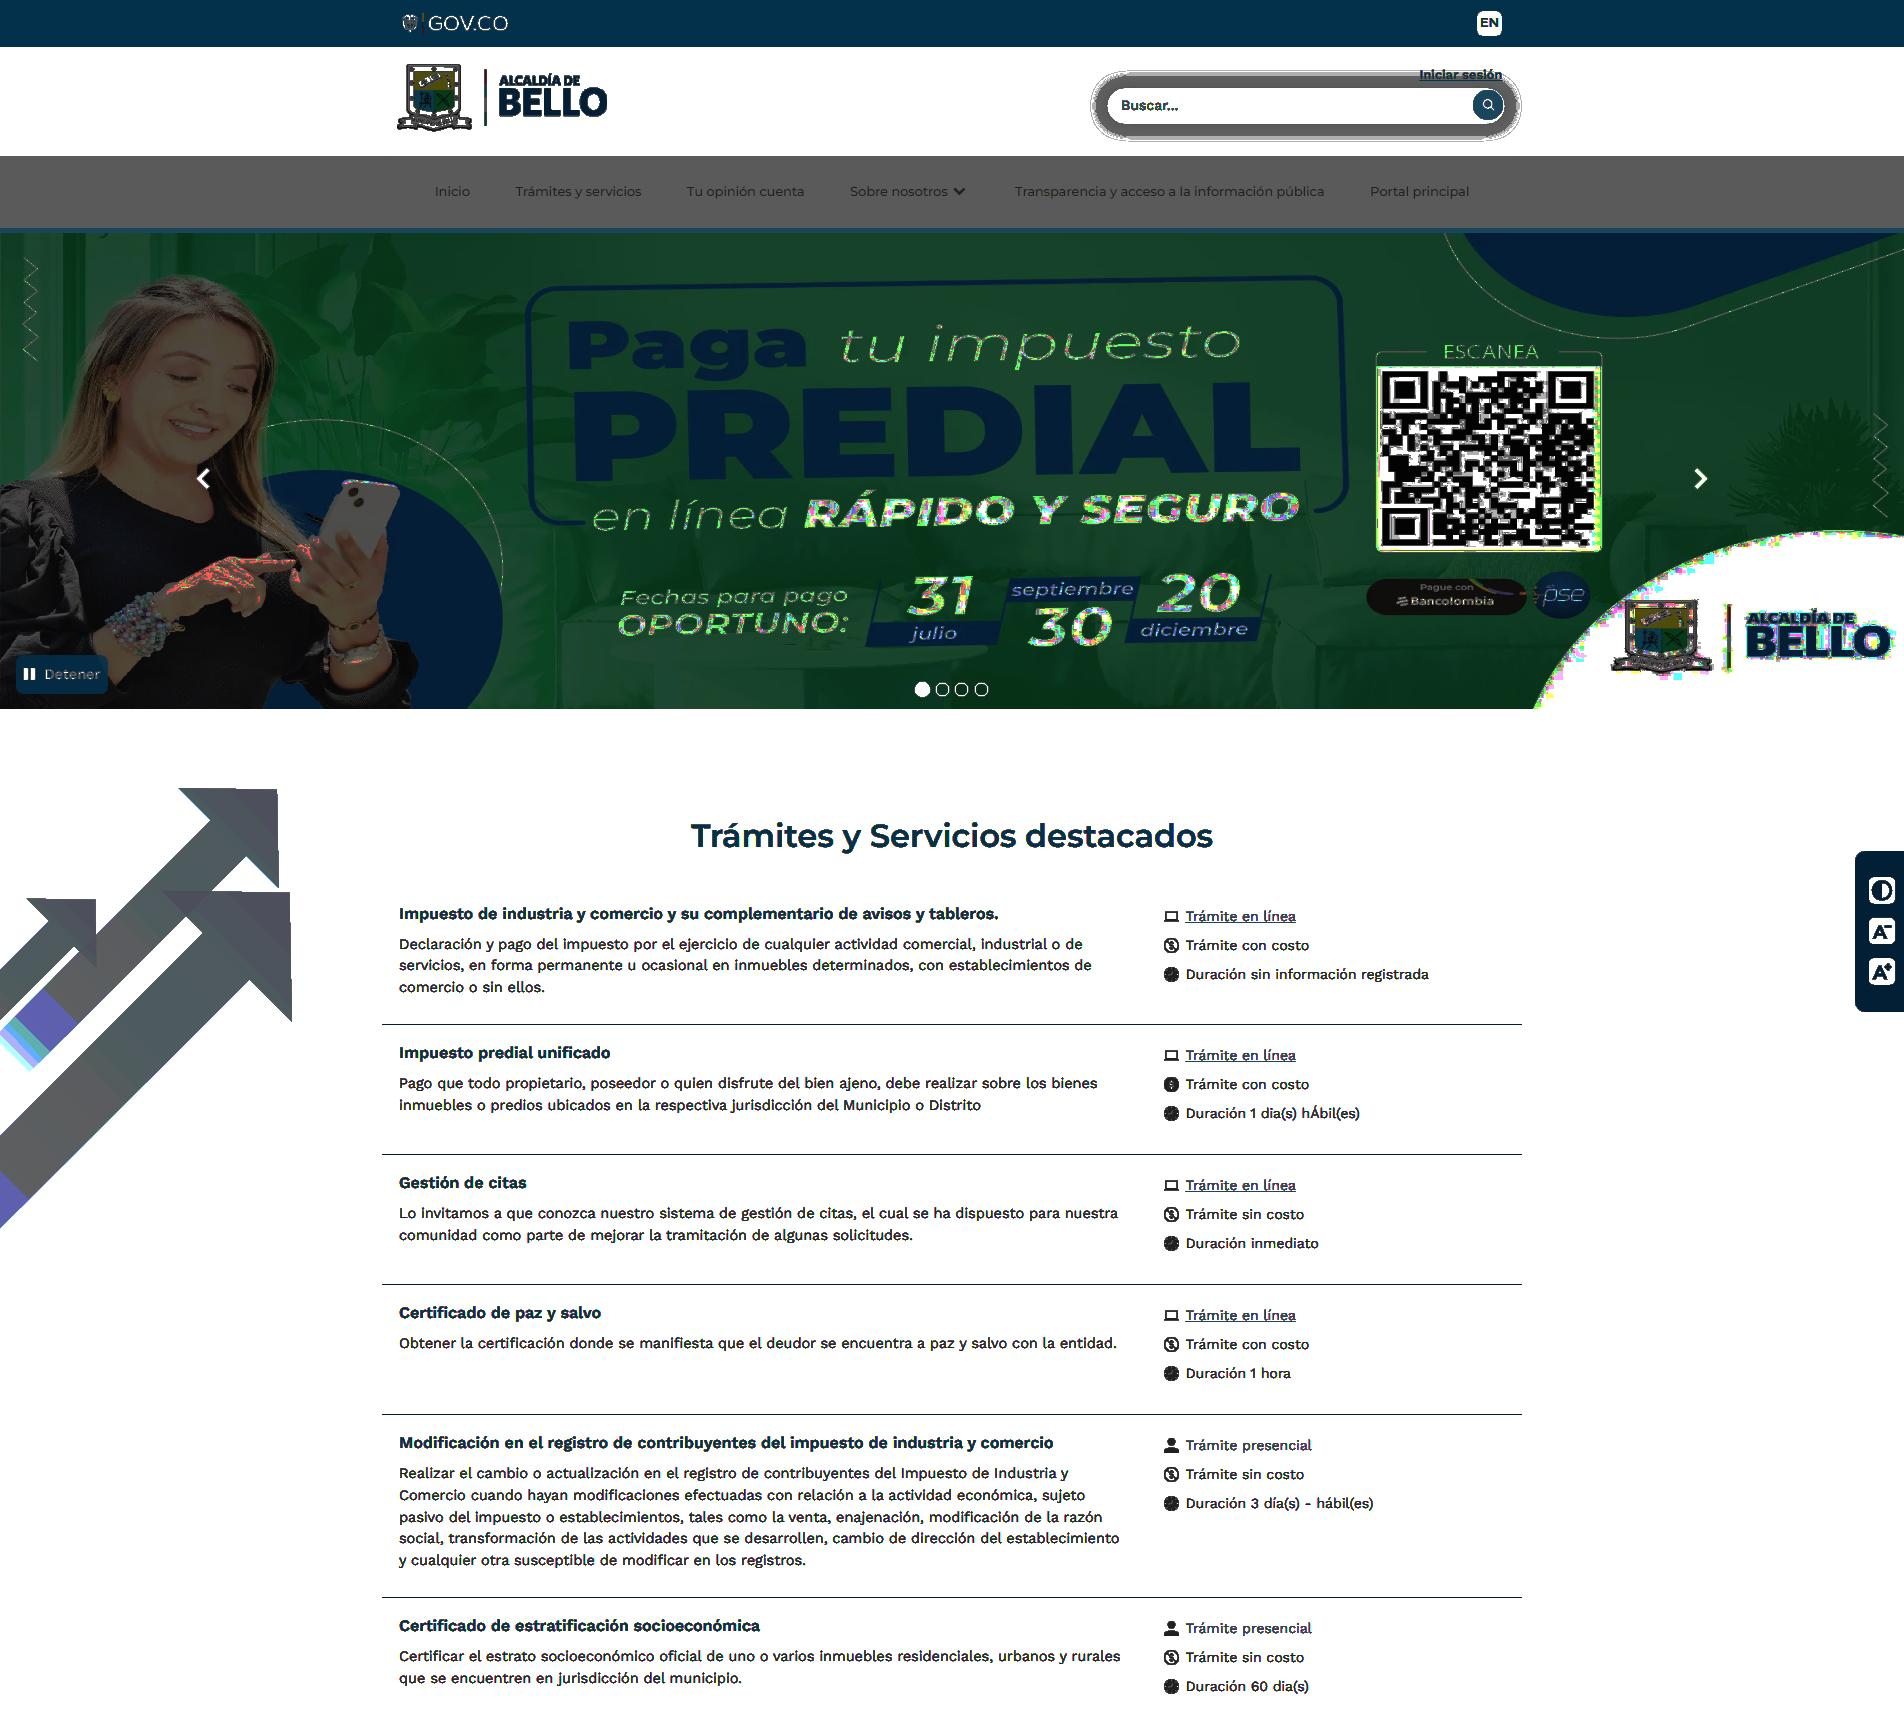banner principal: (2, 218, 1897, 712)
barra accesibilidad: (1853, 850, 1904, 1013)
barra govco: (397, 5, 1509, 44)
btn buscador: (1104, 83, 1506, 128)
btn idiomas: (1478, 8, 1502, 36)
btn inicio: (427, 178, 473, 200)
btn inicio sesion: (1415, 68, 1505, 84)
btn tramites: (682, 809, 1224, 861), (515, 178, 648, 202)
btn transpariencia: (1015, 181, 1331, 202)
logogovco: (399, 11, 511, 39)
menu principal: (424, 172, 1480, 208)
